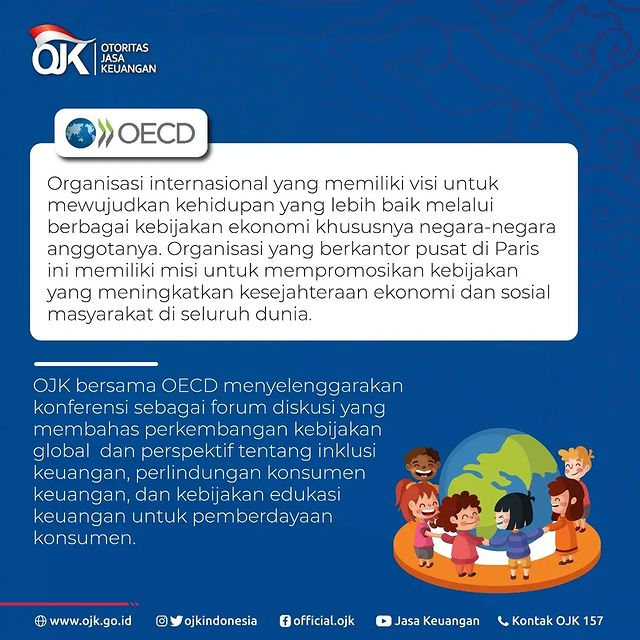ojk: (26, 24, 159, 78)
